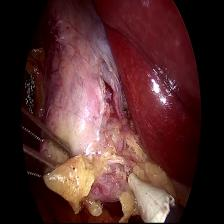Grasper: (20, 106, 78, 185)
Hook: (120, 163, 173, 224)
